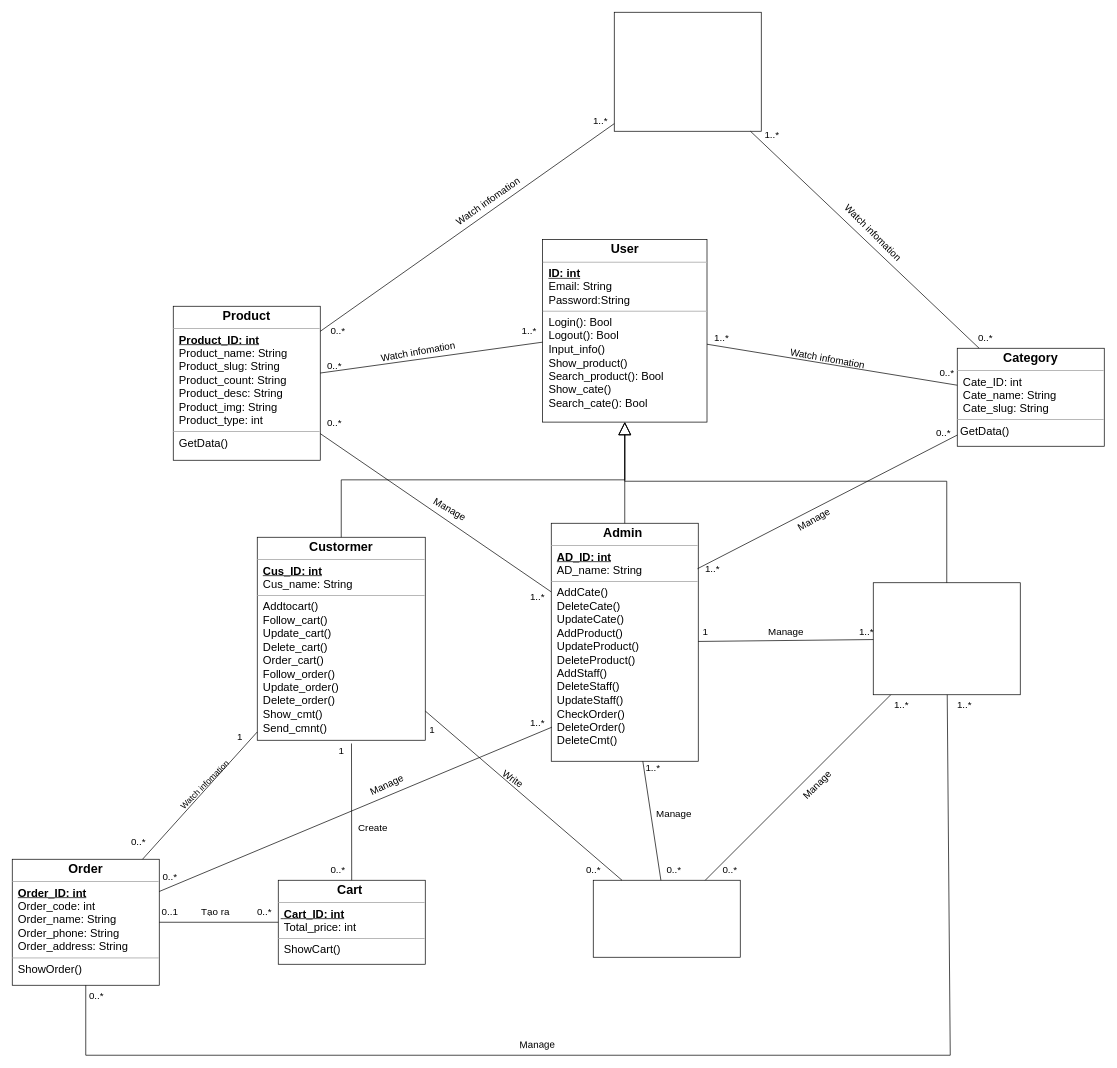
This 1117x1068 diagram has some shape labels left out. The centre of each missing label's shape, as x and y in pixels:
"Comments Cmt_ID: int Cmt_Content: String Getdata()" belongs at (x=666, y=918).
"Guest Register() Show_product() Show_cate() Search_cate() Searc_product()" belongs at (x=687, y=71).
"Staff Staff_ID: int Staff_name CheckOrder() DeleteOrder() DeleteCmt()" belongs at (x=946, y=638).
